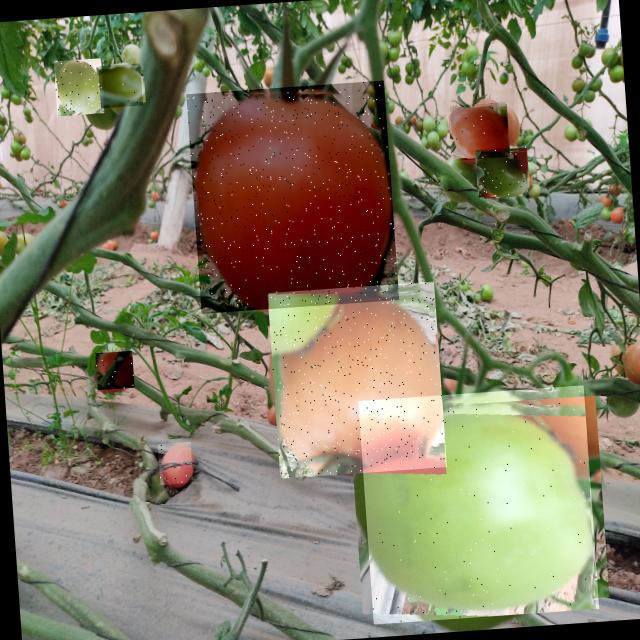Ripe Tomato: (186, 80, 399, 313), (266, 281, 446, 478), (449, 101, 509, 160), (95, 350, 134, 390), (157, 442, 193, 484)
Unripe Tomato: (358, 385, 598, 624), (53, 58, 104, 116), (476, 146, 528, 198), (98, 63, 142, 108)
